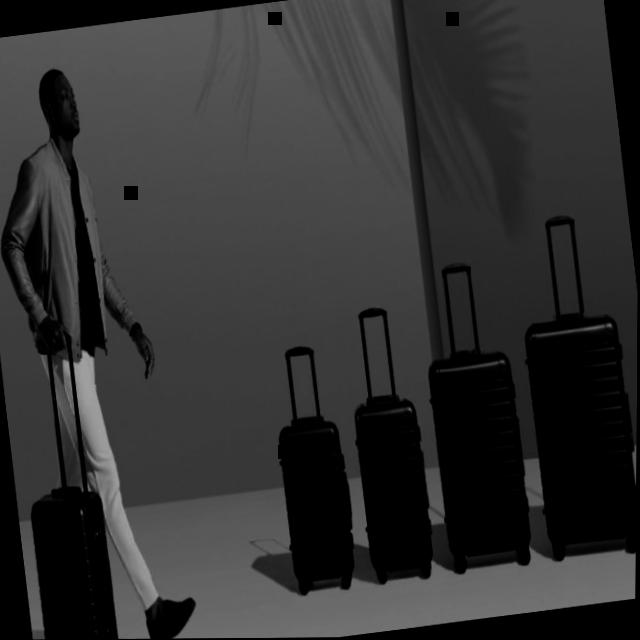luggage: (520, 306, 638, 559), (423, 342, 537, 565), (348, 387, 439, 578), (24, 475, 124, 640), (274, 409, 363, 588)
